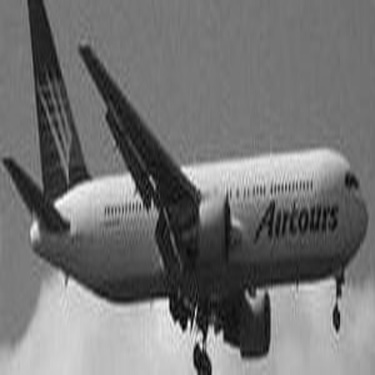airplane: (10, 8, 364, 362)
